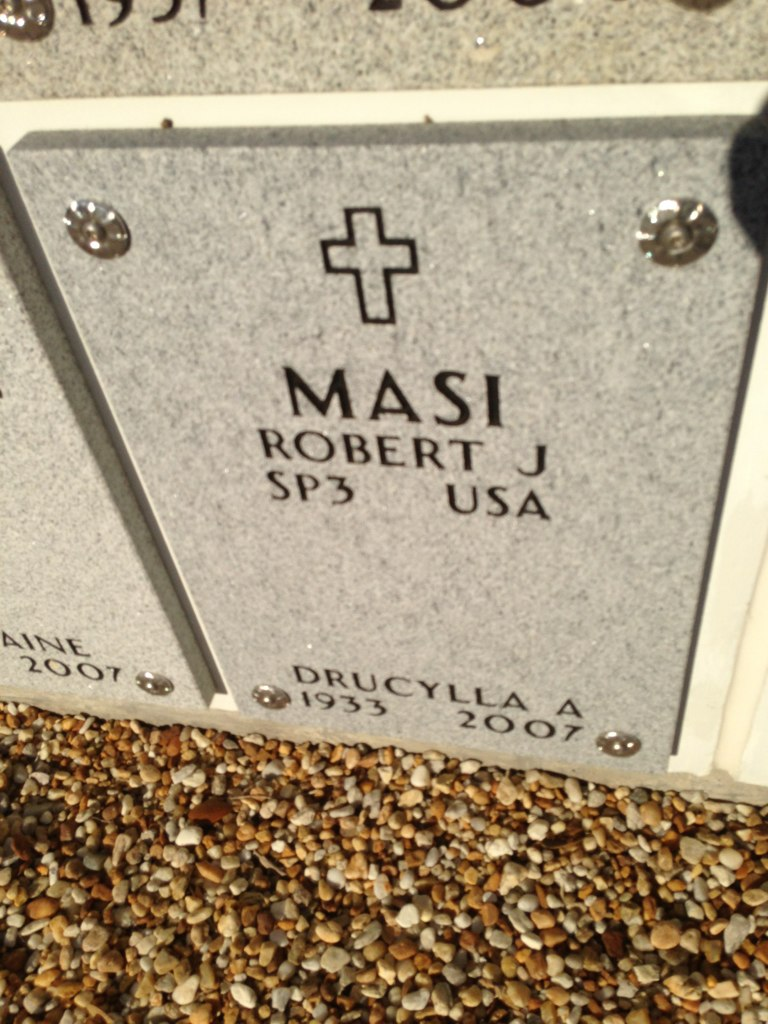plaque: (9, 110, 768, 787)
